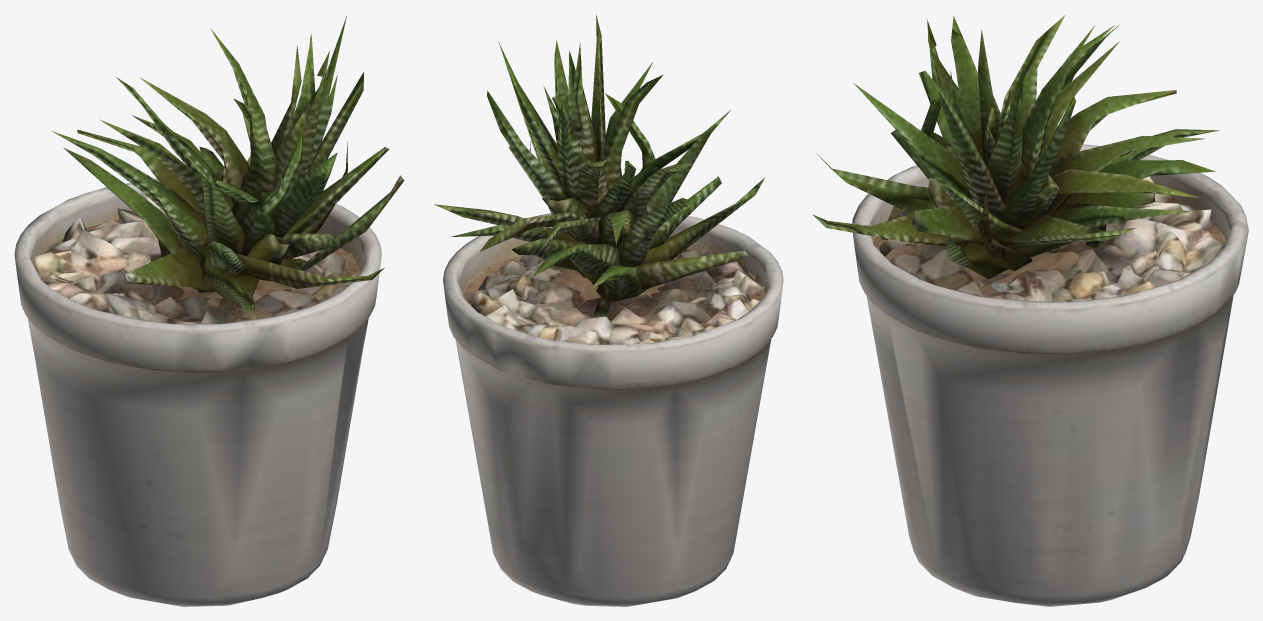
Rendered from potted_plant_04.glb.
The picture shows the model from 3 angles, left to right: view 1: azimuth 30°, elevation 25°; view 2: azimuth 150°, elevation 25°; view 3: azimuth 270°, elevation 25°; orthographic projection. The views are drawn at different scales.
Visible parts, largest first — view 1: potted_plant_04_pot, potted_plant_04_plant, potted_plant_04_ground, potted_plant_04_dirt; view 2: potted_plant_04_pot, potted_plant_04_plant, potted_plant_04_ground, potted_plant_04_dirt; view 3: potted_plant_04_pot, potted_plant_04_plant, potted_plant_04_ground, potted_plant_04_dirt.
Part boxes in pixels (x1,y1,x2,y2): potted_plant_04_pot: (14, 178, 381, 606); potted_plant_04_plant: (52, 16, 404, 311); potted_plant_04_ground: (33, 196, 356, 323); potted_plant_04_dirt: (35, 219, 361, 306); potted_plant_04_pot: (443, 213, 783, 606); potted_plant_04_plant: (434, 14, 765, 316); potted_plant_04_ground: (463, 247, 765, 344); potted_plant_04_dirt: (462, 247, 765, 306); potted_plant_04_pot: (852, 144, 1248, 606); potted_plant_04_plant: (812, 14, 1219, 279); potted_plant_04_ground: (879, 176, 1225, 302); potted_plant_04_dirt: (873, 208, 1226, 296).
Size of the model in its own units: 0.1672 by 0.2671 by 0.1843.
1 material, 1 textured.
